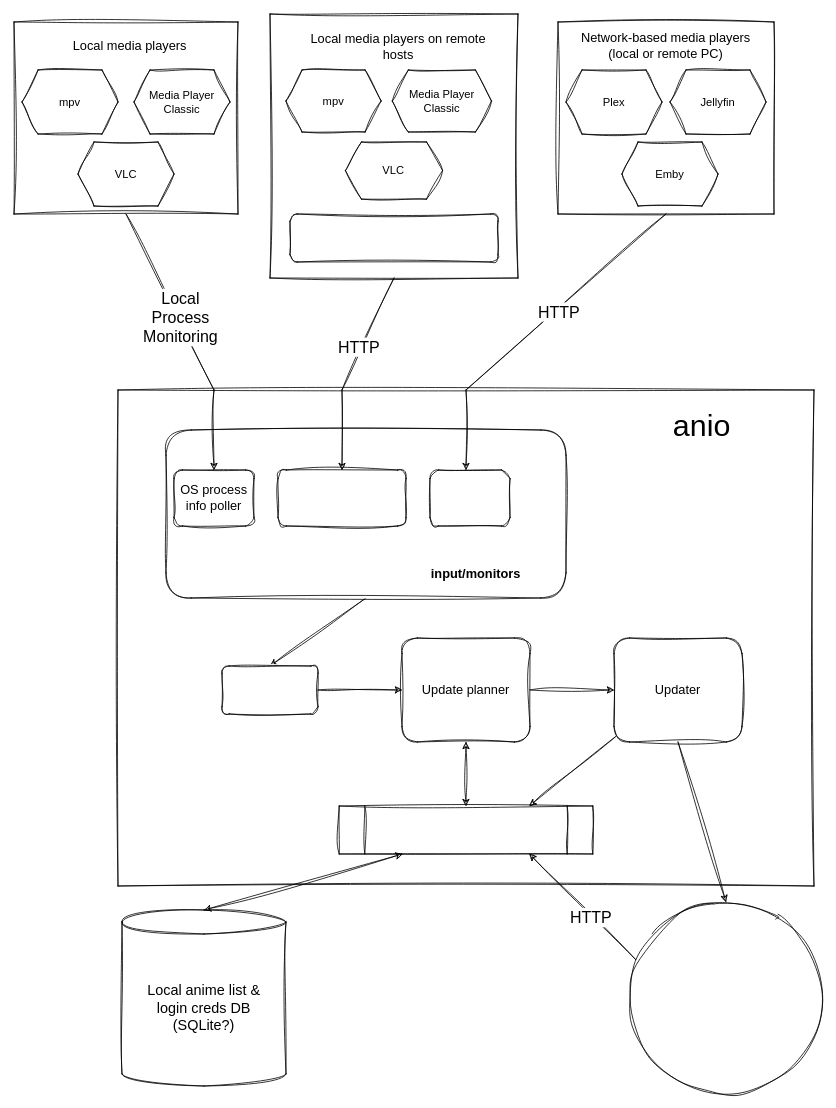
The diagram is 836 pixels wide and 1108 high, and some of its shapes have lost their labels. The shapes that lost their labels are listed below. From the top down, each one's centre as x and y in pixels, then its label:
At pixel 393 237: "Local process data HTTP exporter".
At pixel 341 497: "http listener".
At pixel 469 497: "http poller".
At pixel 269 689: "Title/episode parser".
At pixel 465 829: "DB data syncer".
At pixel 725 997: "Anilist/MAL API".
